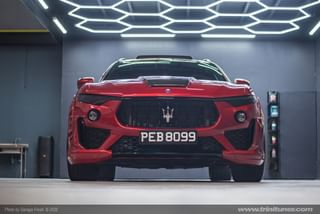License-Plate: (138, 130, 195, 144)
